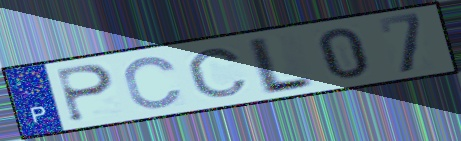0: (314, 26, 374, 81)
7: (376, 10, 425, 76)
C: (121, 54, 186, 111), (184, 47, 251, 99)
L: (247, 34, 316, 98)
P: (54, 62, 116, 124)
